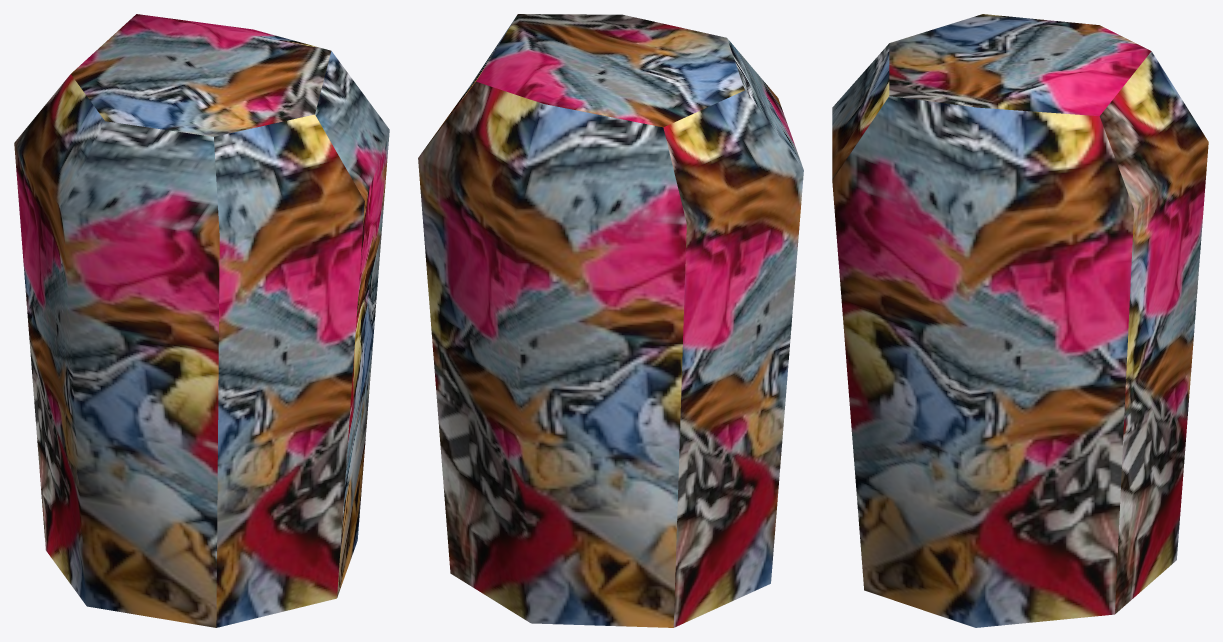
Rendered from Dirty__clothes-col.glb.
The picture shows the model from 3 angles, left to right: view 1: azimuth 30°, elevation 25°; view 2: azimuth 150°, elevation 25°; view 3: azimuth 270°, elevation 25°; orthographic projection. The views are drawn at different scales.
Parts seen in each view (by area): view 1: Dirty _clothes-col; view 2: Dirty _clothes-col; view 3: Dirty _clothes-col.
Part boxes in pixels (left/top/right/bottom): Dirty _clothes-col: left=14, top=14, right=389, bottom=627; Dirty _clothes-col: left=418, top=14, right=803, bottom=627; Dirty _clothes-col: left=832, top=14, right=1208, bottom=627.
Bounding box in the file's own units: 0.6843 × 0.9966 × 0.6678.
1 material, 1 textured.
